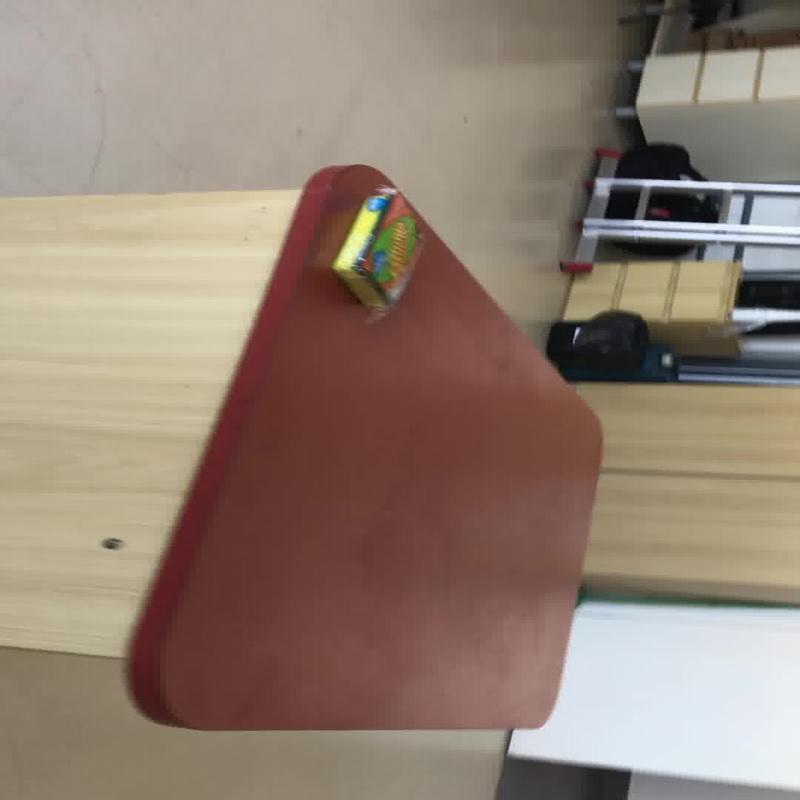sponge: (125, 161, 604, 730), (558, 258, 743, 360), (330, 187, 424, 320)
